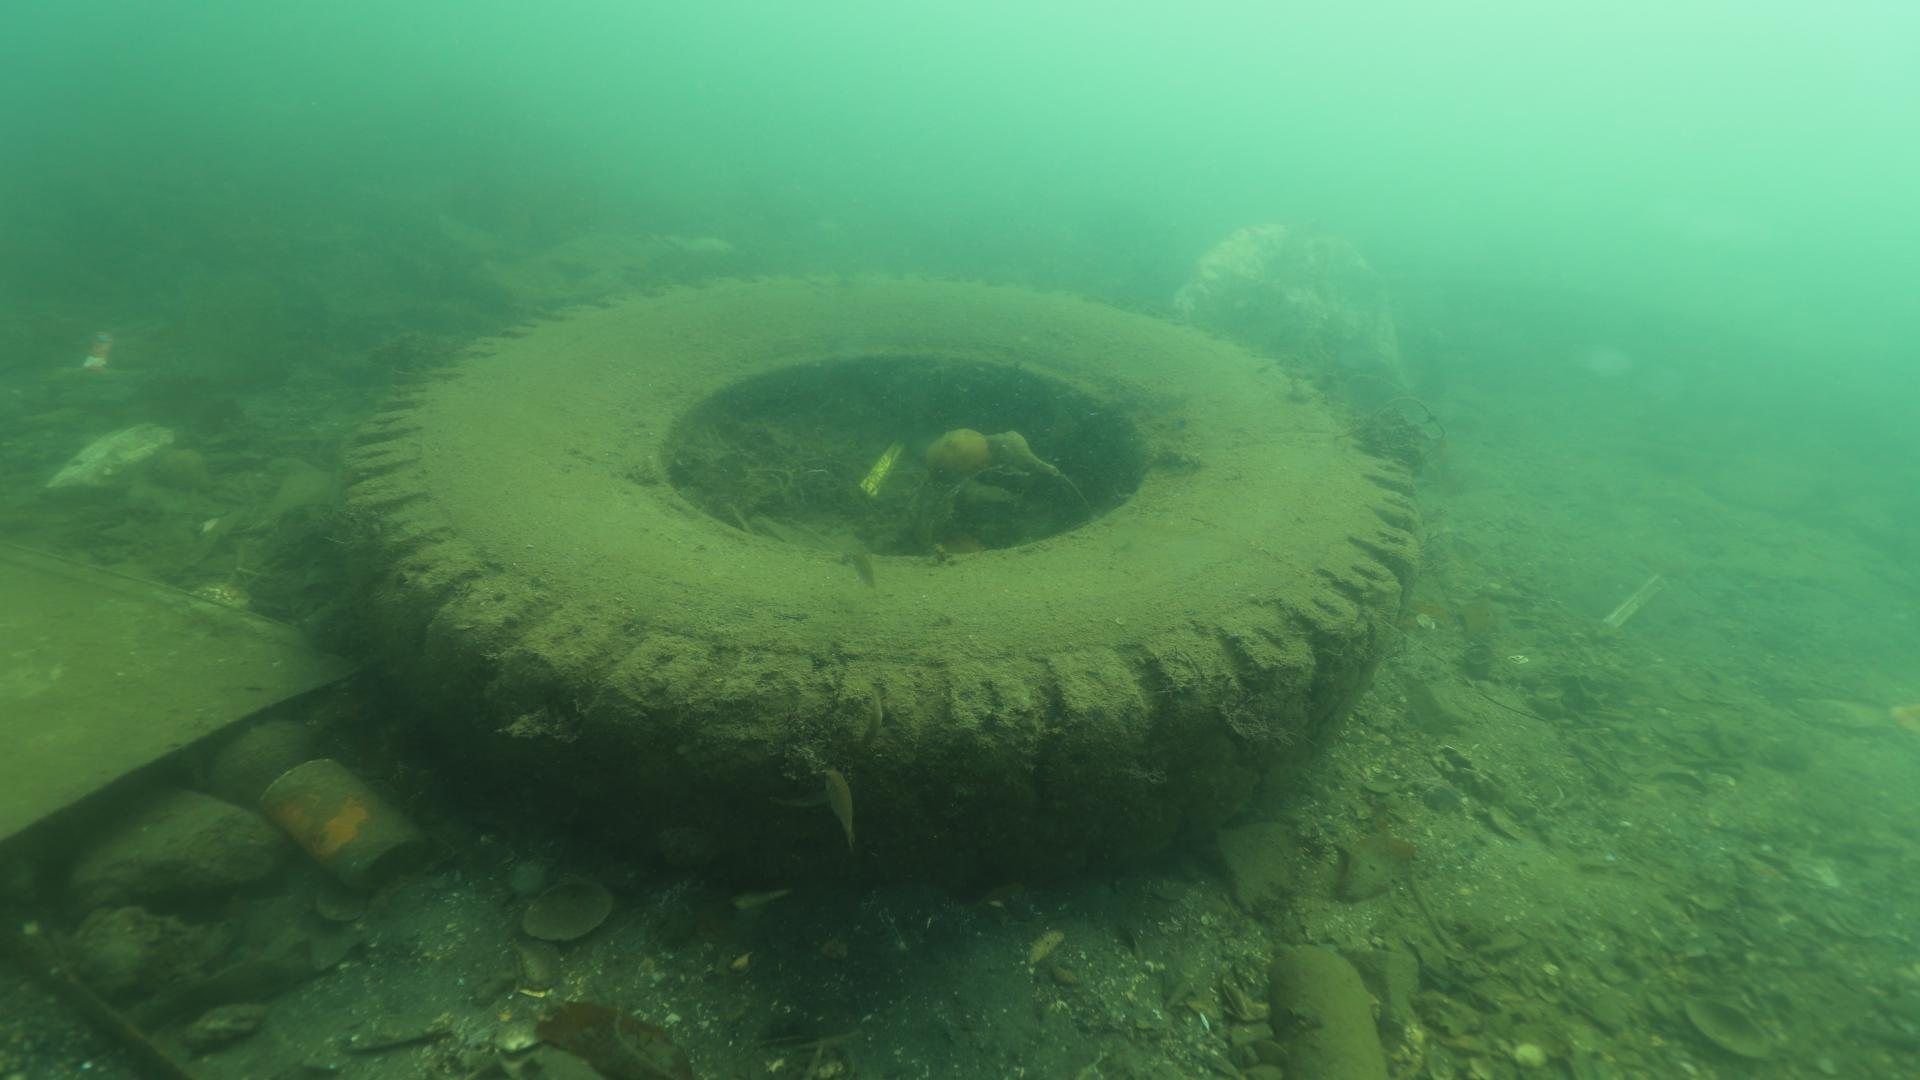tire: (336, 262, 1420, 882)
